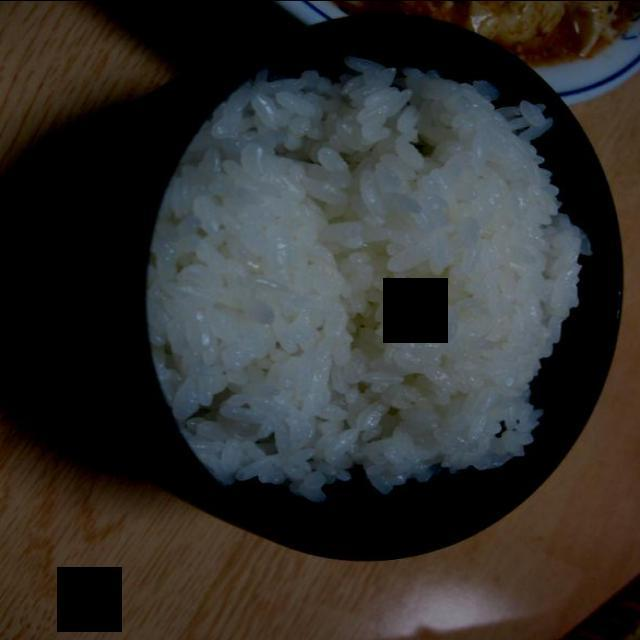rice: (148, 53, 594, 503)
